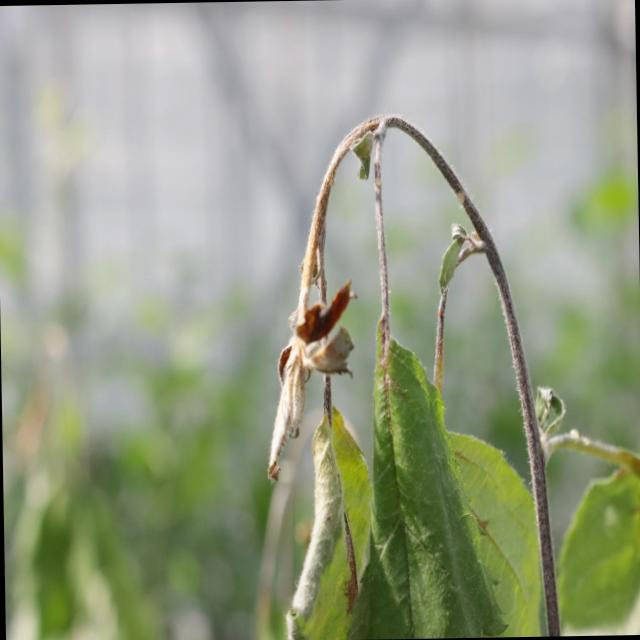-FireBlight-: (252, 85, 402, 427)
